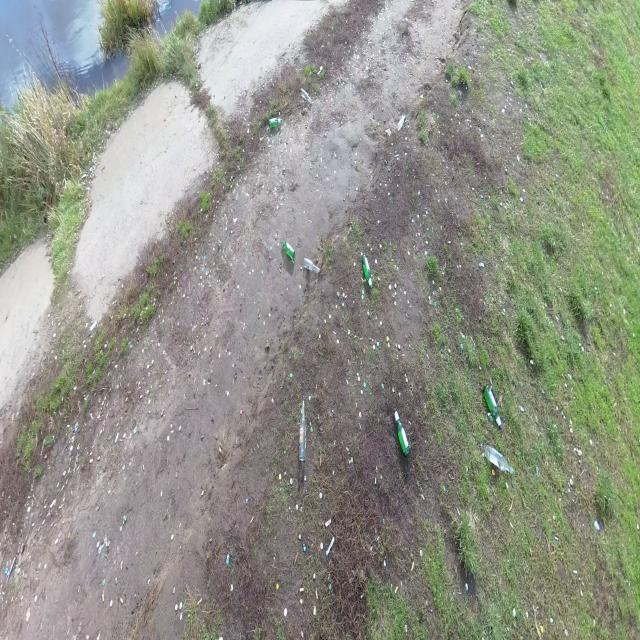rubbish: (484, 444, 515, 473), (482, 385, 502, 429), (395, 409, 412, 456), (297, 395, 307, 459), (361, 252, 373, 294), (300, 88, 315, 106), (282, 243, 295, 262), (304, 257, 322, 270), (268, 118, 284, 127)
